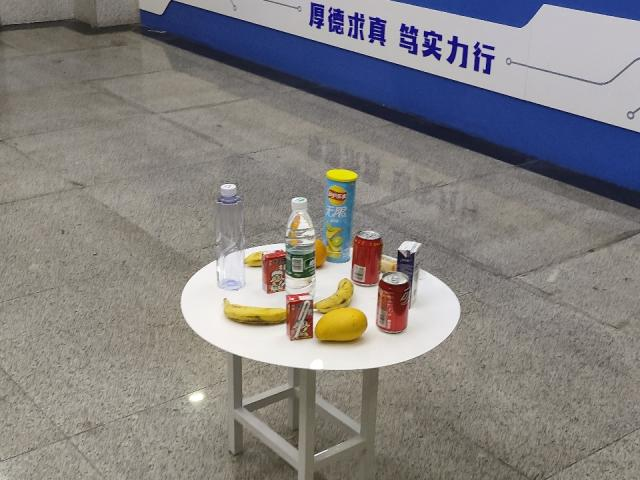Canned_drinks: (380, 273, 410, 334), (356, 233, 378, 284)
bottle: (214, 183, 250, 292), (286, 197, 318, 294)
cylinder: (325, 172, 355, 260)
drink_box: (286, 296, 314, 342), (260, 250, 286, 295), (408, 241, 424, 304)
